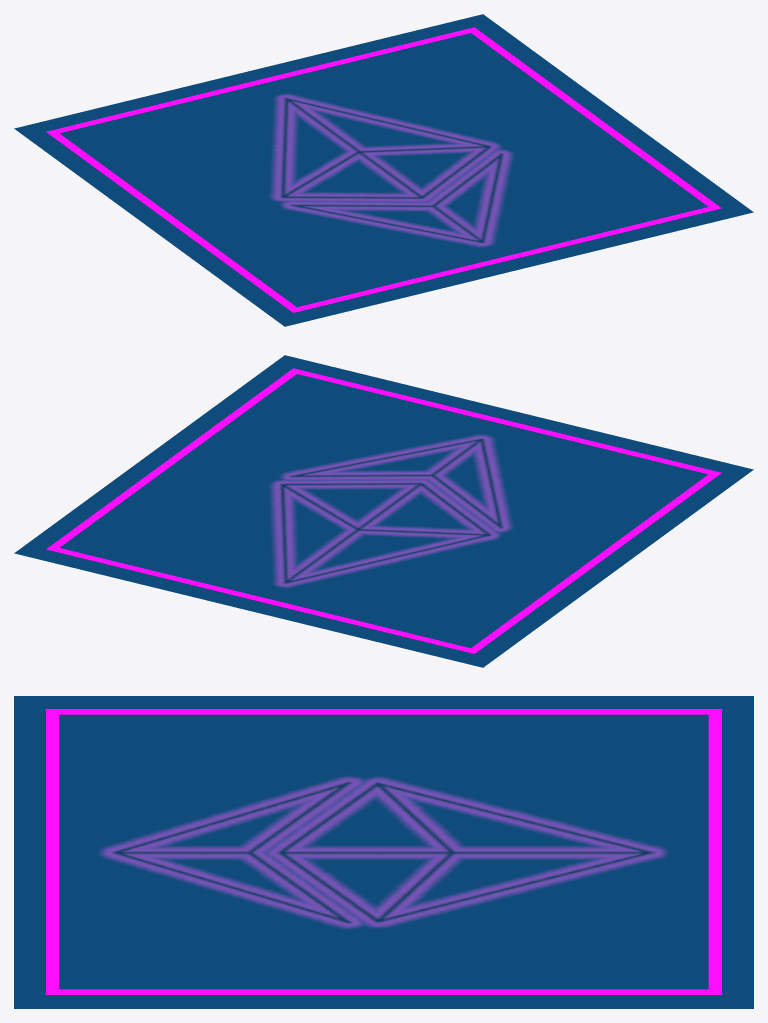
Rendered from Tile_purple.glb.
3 renders of one model, top to bottom at view 1: azimuth 30°, elevation 25°; view 2: azimuth 150°, elevation 25°; view 3: azimuth 270°, elevation 25°, orthographic. The views are drawn at different scales.
Parts seen in each view (by area): view 1: Plane034, Plane163; view 2: Plane034, Plane163; view 3: Plane034, Plane163.
Boxes of the visible parts, x1,y1,x2,y2 form: Plane034: (14, 14, 753, 326); Plane163: (46, 27, 721, 312); Plane034: (14, 355, 753, 667); Plane163: (46, 368, 721, 653); Plane034: (14, 696, 753, 1008); Plane163: (46, 709, 721, 994).
Bounding box in the file's own units: 1 × 0.00075 × 1.
2 materials, 1 textured.
